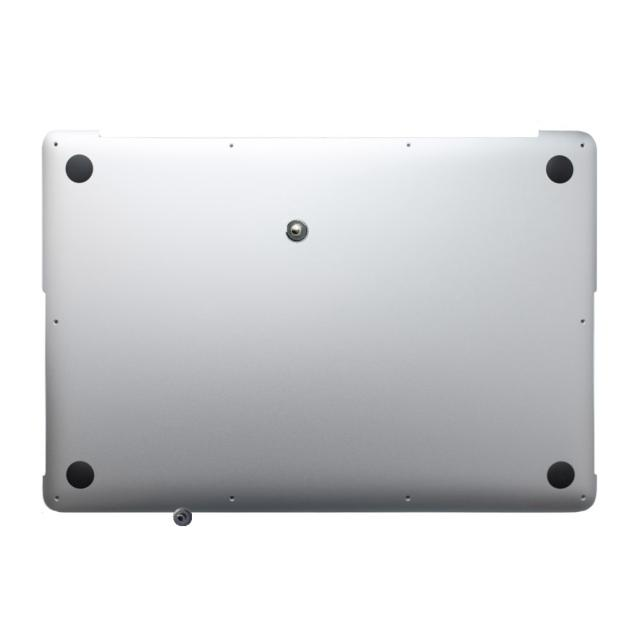missing_screw: (285, 219, 308, 242), (173, 507, 192, 526)
